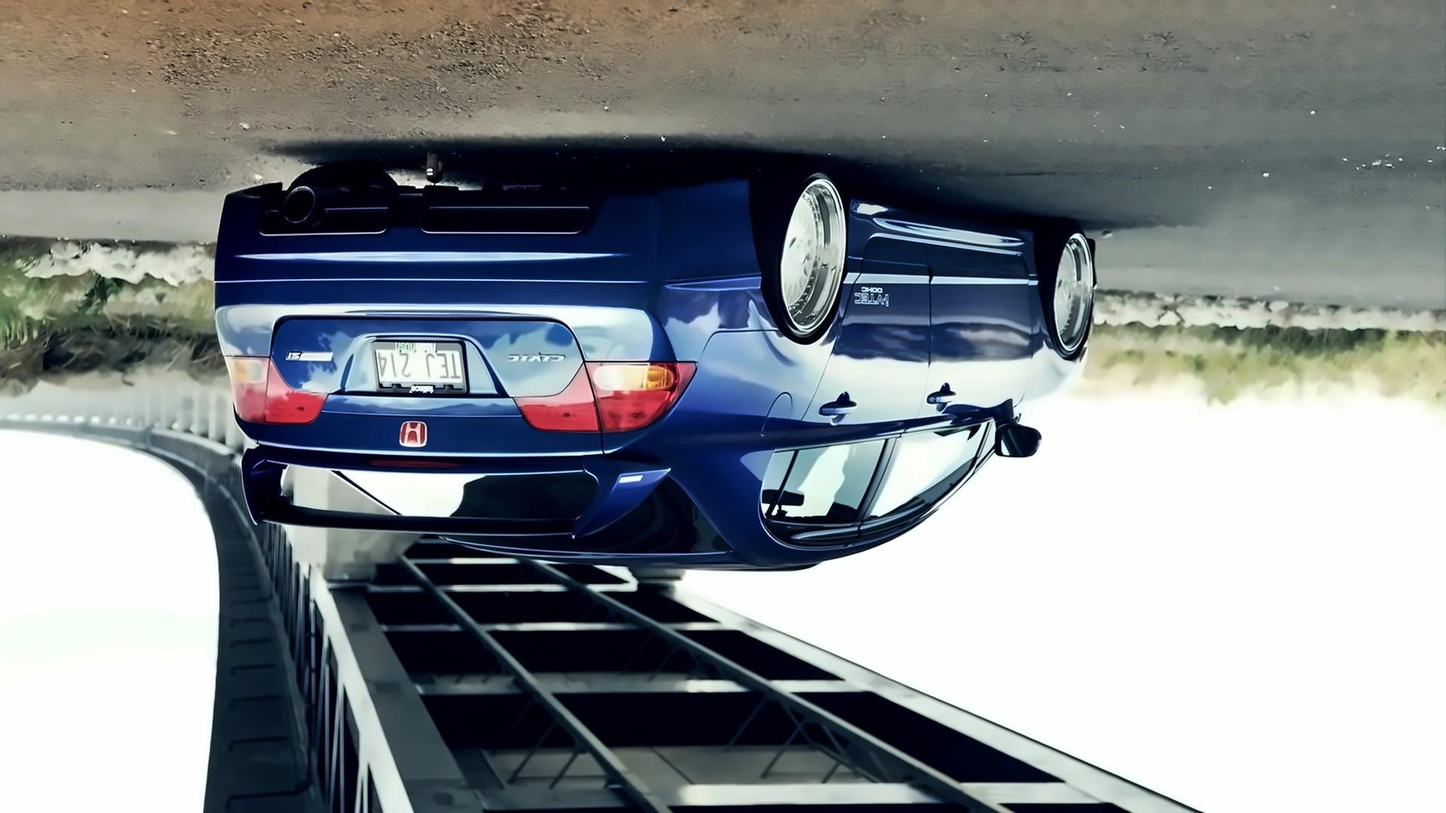Car boot: (257, 309, 611, 473)
Fender - -R-L-: (651, 272, 866, 519)
Passenger-s door - -F-L-: (857, 195, 1042, 559)
Passenger-s door - -R-L-: (763, 181, 940, 562)
Rear bumper: (197, 157, 774, 357)
Rear light - -L-: (509, 361, 703, 435)
Rear light - -R-: (222, 353, 328, 424)
Side bumper - -L-: (841, 187, 1035, 304)
Side mirror - -L-: (983, 403, 1050, 465)
